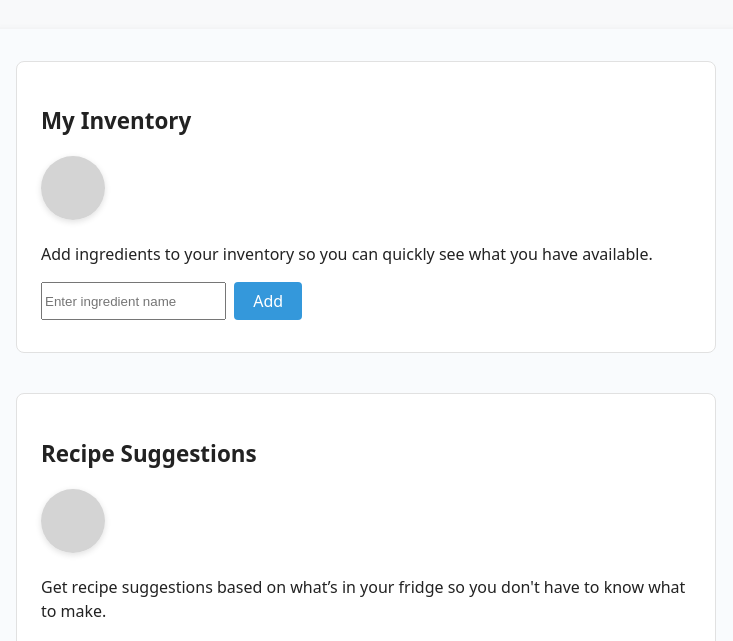
Scenario: SmartKitchen › shows error when dietary filter excludes all recipes (negative)
// Add an ingredient so the button is enabled
In the field with placeholder "Enter ingredient name": (134, 302) [41,282,226,320], type "Tomato"
Click the button "Add": (268, 302) [234,282,302,320]
(page scrolled)
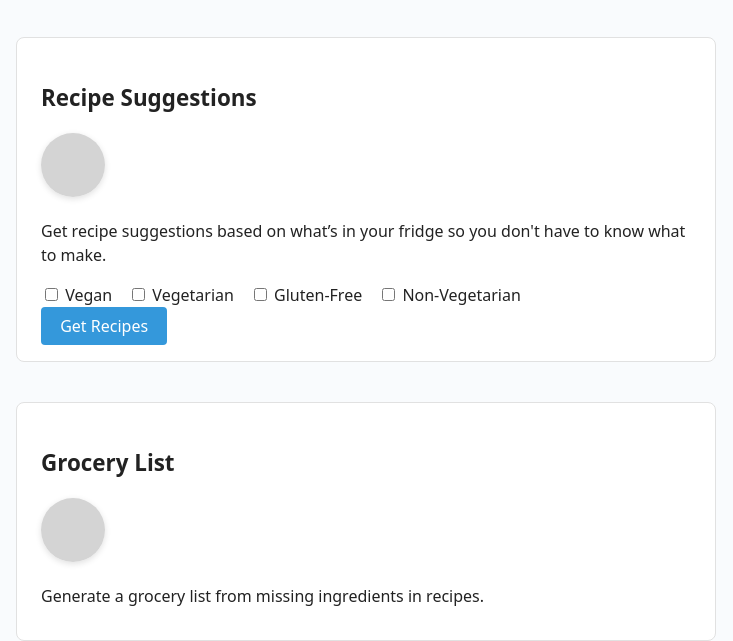
// Apply all dietary filters to exclude all recipes
Click the checkbox labelled "Vegan": (52, 295) [45,288,58,301]
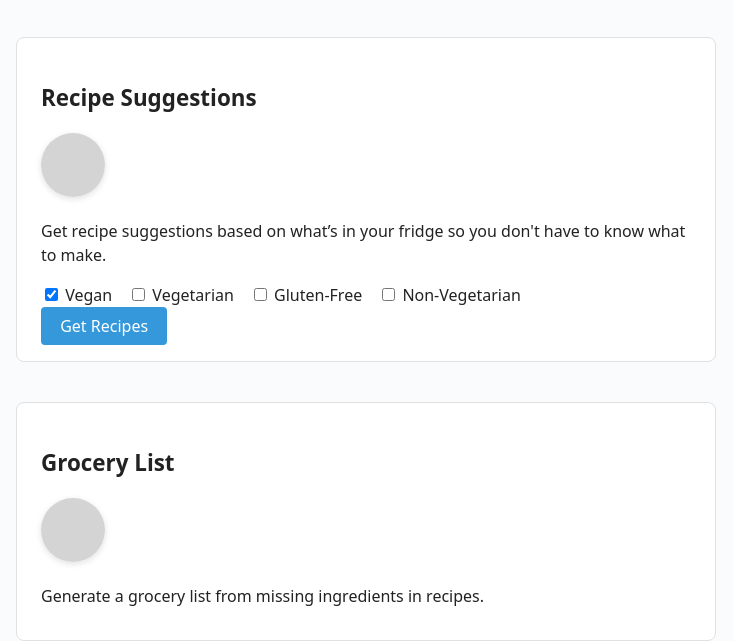
Click the checkbox labelled "Vegetarian": (139, 295) [132,288,145,301]
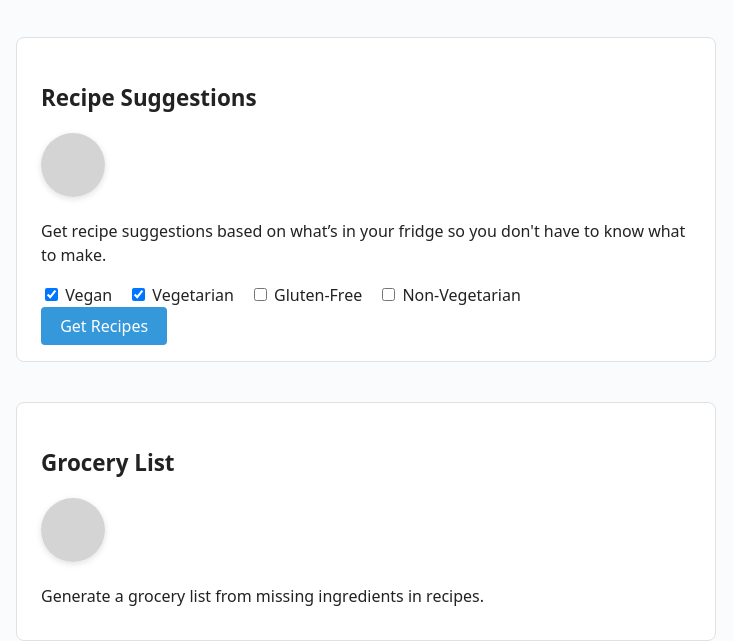
Click the checkbox labelled "Gluten-Free": (260, 295) [254,288,267,301]
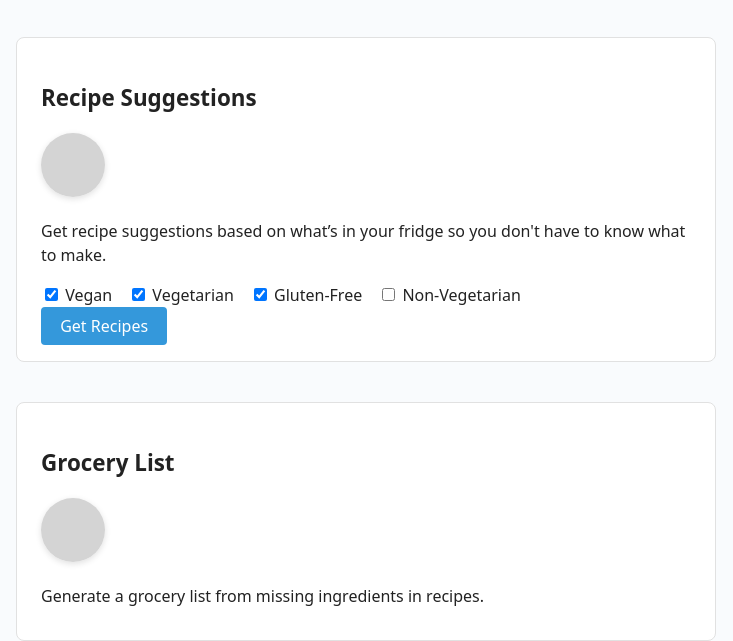
Click the checkbox labelled "Non-Vegetarian": (389, 295) [382,288,395,301]
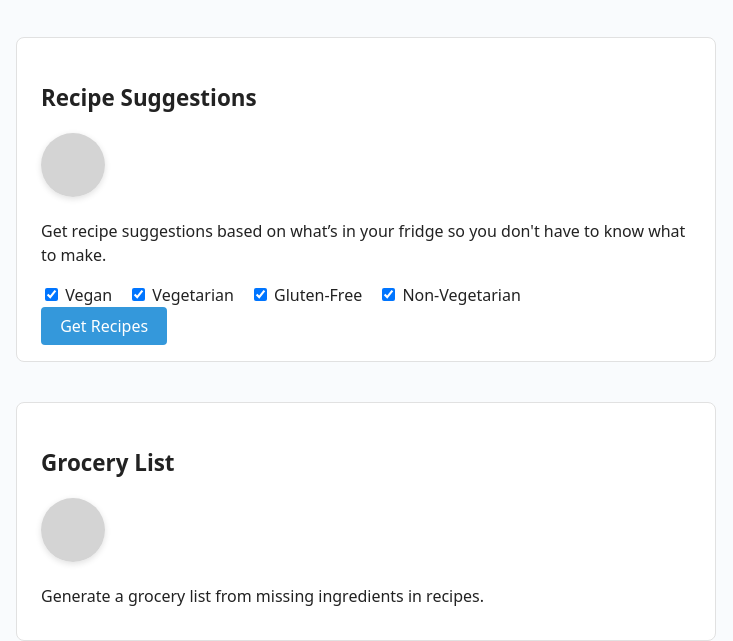
// Now click Get Recipes
Click the button "Get Recipes": (104, 326) [41,307,167,345]
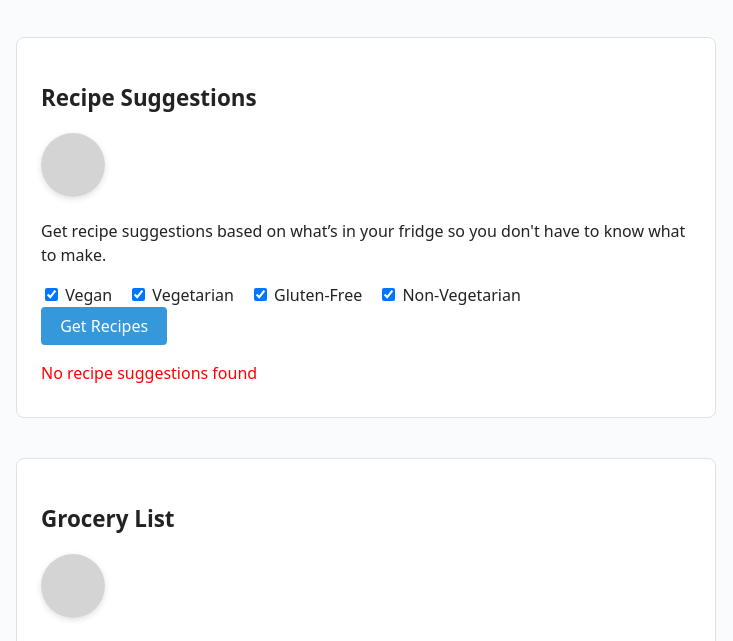
Now the text "No recipe suggestions found" is shown, box [41,362,257,384]
